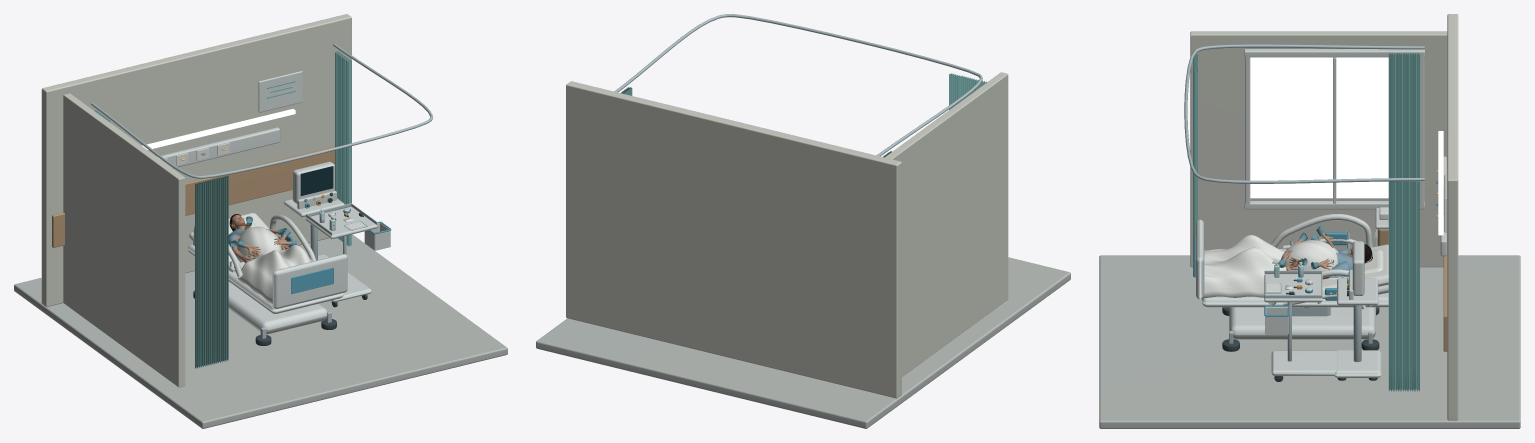
Rendered from palpation-room.glb.
The picture shows the model from 3 angles, left to right: view 1: azimuth 30°, elevation 25°; view 2: azimuth 150°, elevation 25°; view 3: azimuth 270°, elevation 25°; orthographic projection. The views are drawn at different scales.
Visible parts, largest first — view 1: Palpation_static_Linen_warm_wall, Palpation_static_Matte_warm_grey_floor, Palpation_static_Warm_hospital_enamel, Curtain_front_dynamic, Palpation_static_Ash_wood_laminate, Curtain_right_dynamic, Palpation_static_Bed_frame_satin_aluminum, Pelvis_cover, Palpation_static_Warm_headlight_glow, Privacy_cover, Palpation_static_Clean_warm_cotton, Palpation_static_Clinical_blue_accent (+2 smaller); view 2: Palpation_static_Linen_warm_wall, Palpation_static_Matte_warm_grey_floor, Palpation_static_Bed_frame_satin_aluminum, Curtain_front_dynamic; view 3: Palpation_static_Matte_warm_grey_floor, Palpation_static_Linen_warm_wall, Palpation_static_Soft_daylight_glazing, Palpation_static_Warm_hospital_enamel, Curtain_right_dynamic, Curtain_dynamic, Palpation_static_Bed_frame_satin_aluminum, Pelvis_cover, Privacy_cover, Palpation_static_Clean_warm_cotton, Curtain_front_dynamic, Palpation_static_Ash_wood_laminate (+5 smaller).
Part boxes in pixels (x1,y1,x2,y2): Palpation_static_Linen_warm_wall: (41,14,351,387); Palpation_static_Matte_warm_grey_floor: (14,234,507,428); Palpation_static_Warm_hospital_enamel: (157,71,377,334); Curtain_front_dynamic: (195,175,228,368); Palpation_static_Ash_wood_laminate: (52,146,334,247); Curtain_right_dynamic: (335,51,351,246); Palpation_static_Bed_frame_satin_aluminum: (91,43,432,338); Pelvis_cover: (237,245,312,303); Palpation_static_Warm_headlight_glow: (142,109,295,149); Privacy_cover: (236,226,281,262); Palpation_static_Clean_warm_cotton: (161,143,271,293); Palpation_static_Clinical_blue_accent: (201,153,333,293); Palpation_static_Linen_warm_wall: (566,72,1008,398); Palpation_static_Matte_warm_grey_floor: (536,257,1070,428); Palpation_static_Bed_frame_satin_aluminum: (614,14,982,156); Curtain_front_dynamic: (949,73,986,109); Palpation_static_Matte_warm_grey_floor: (1099,255,1520,428); Palpation_static_Linen_warm_wall: (1190,14,1458,420); Palpation_static_Soft_daylight_glazing: (1250,57,1388,198); Palpation_static_Warm_hospital_enamel: (1196,49,1446,377); Curtain_right_dynamic: (1388,184,1419,391); Curtain_dynamic: (1388,53,1419,185); Palpation_static_Bed_frame_satin_aluminum: (1184,44,1424,362); Pelvis_cover: (1203,235,1286,297); Privacy_cover: (1281,240,1342,281); Palpation_static_Clean_warm_cotton: (1223,207,1388,294); Curtain_front_dynamic: (1193,54,1197,277); Palpation_static_Ash_wood_laminate: (1377,166,1447,351).
Bounding box in the file's own units: 4.3 × 3.01 × 4.6.
Materials: 31 (2 with a texture image).
